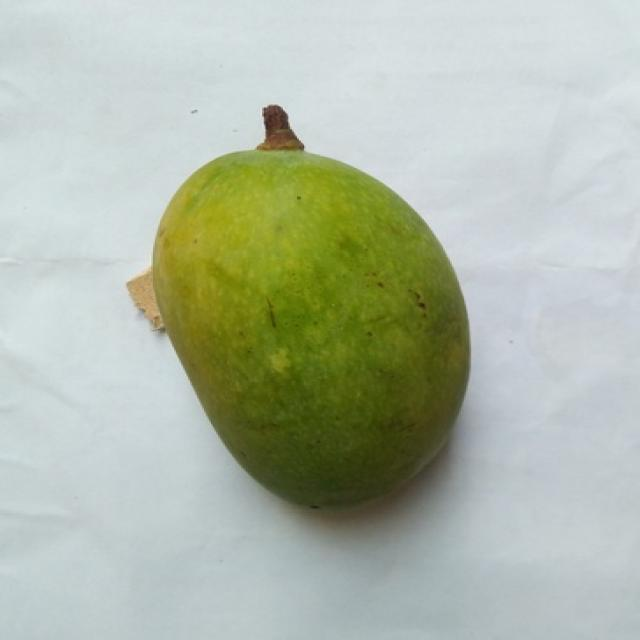Mango: (153, 147, 468, 509)
